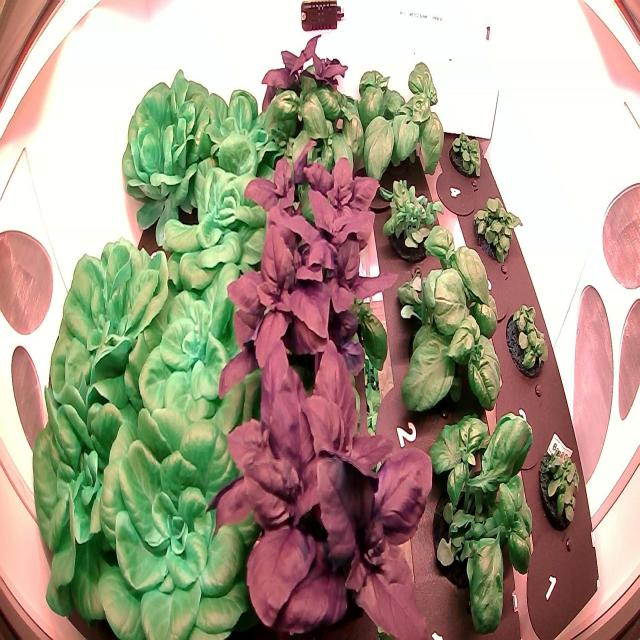Ready: (26, 388, 152, 638), (43, 217, 173, 430), (120, 61, 226, 229)
young: (94, 399, 261, 639), (134, 244, 272, 450), (158, 152, 274, 307), (201, 74, 285, 184)
